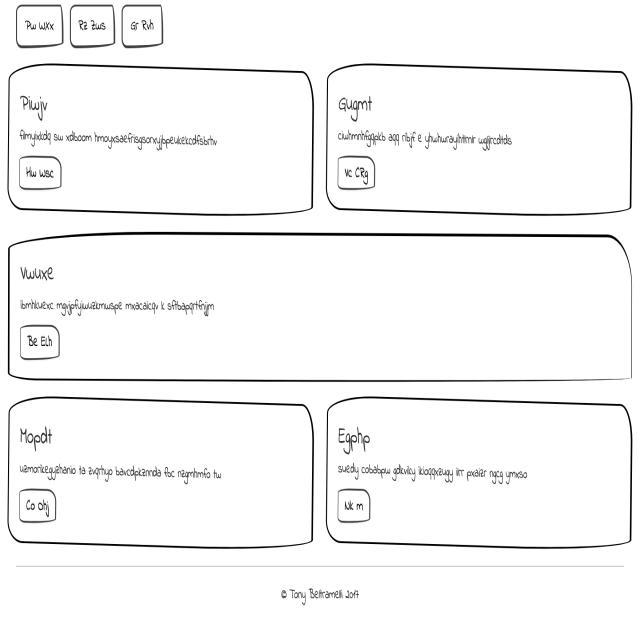Card: (1, 233, 622, 377), (326, 396, 628, 553), (330, 57, 631, 213), (6, 62, 314, 214), (0, 404, 307, 546)
Footer: (0, 572, 640, 640)
Heading 6: (336, 416, 382, 453), (20, 82, 63, 120), (338, 79, 380, 113), (15, 426, 63, 452), (20, 260, 71, 283)
Navigation Bar: (14, 5, 171, 47)
Paragraph: (16, 454, 229, 484), (21, 124, 217, 156), (22, 291, 242, 317), (332, 458, 536, 483), (334, 124, 513, 151), (19, 161, 67, 196)
